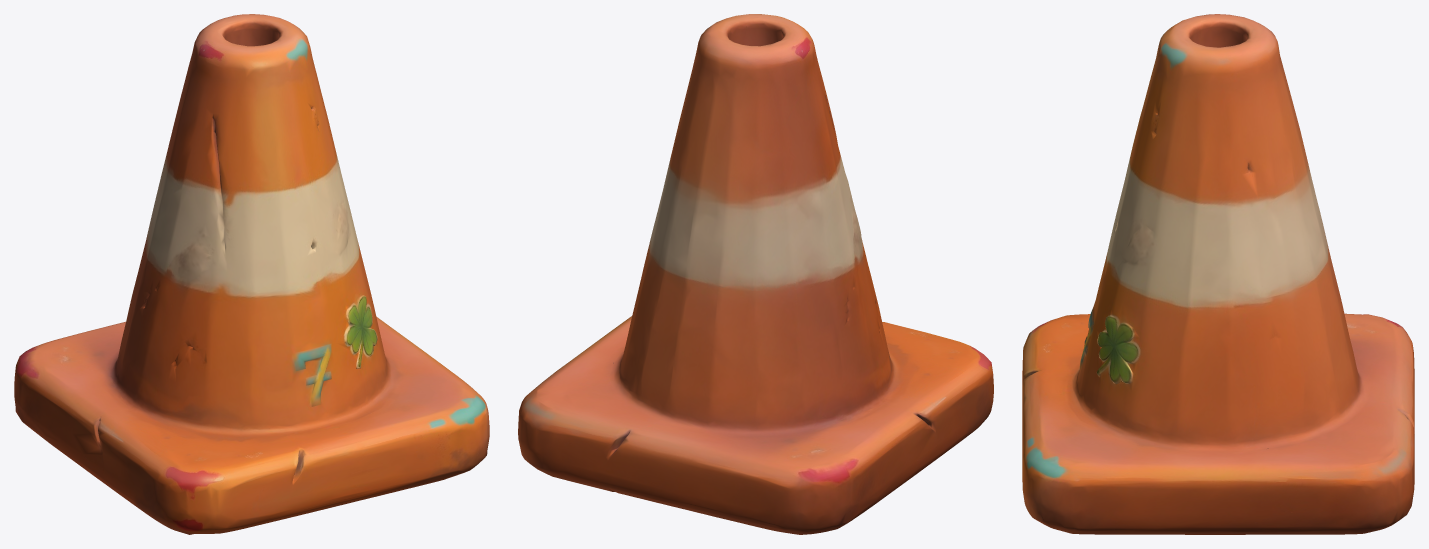
3 renders of one model, left to right at view 1: azimuth 30°, elevation 25°; view 2: azimuth 150°, elevation 25°; view 3: azimuth 270°, elevation 25°, orthographic. The views are drawn at different scales.
Parts seen in each view (by area): view 1: tripo_node_fd4e616e-5d94-404e-b0eb-0d2ef26195d6; view 2: tripo_node_fd4e616e-5d94-404e-b0eb-0d2ef26195d6; view 3: tripo_node_fd4e616e-5d94-404e-b0eb-0d2ef26195d6.
Boxes of the visible parts, x1,y1,x2,y2 form: tripo_node_fd4e616e-5d94-404e-b0eb-0d2ef26195d6: [14, 14, 489, 534]; tripo_node_fd4e616e-5d94-404e-b0eb-0d2ef26195d6: [518, 14, 993, 534]; tripo_node_fd4e616e-5d94-404e-b0eb-0d2ef26195d6: [1022, 14, 1414, 534].
Size of the model in its own units: 0.8231 by 0.9808 by 0.8181.
Materials: 1 (1 with a texture image).
